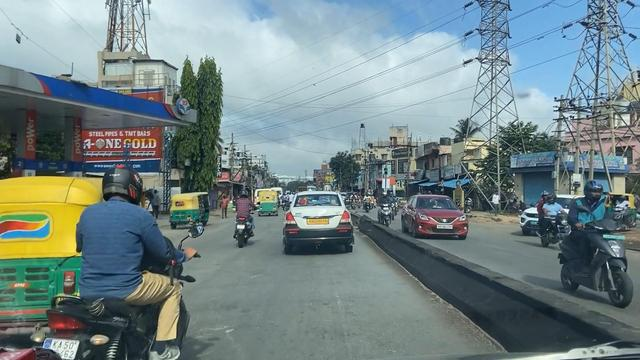LMV: (48, 164, 188, 360), (283, 186, 354, 258), (229, 183, 257, 245)
